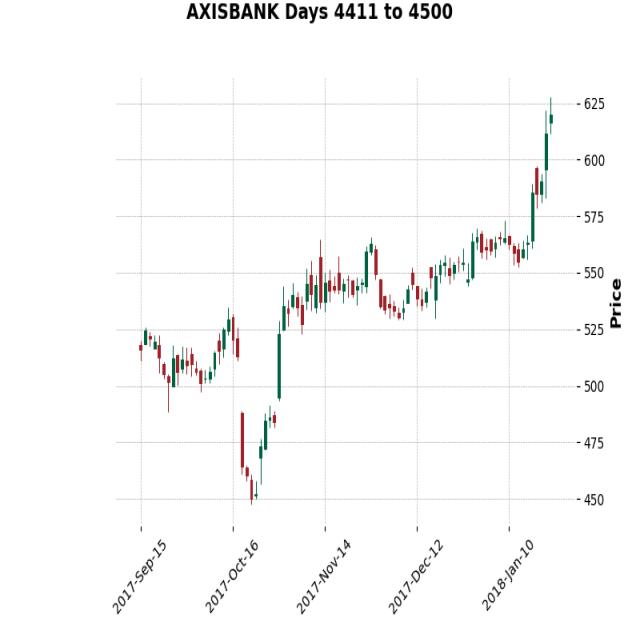Inverse Head and Shoulder: (155, 274, 384, 520)
